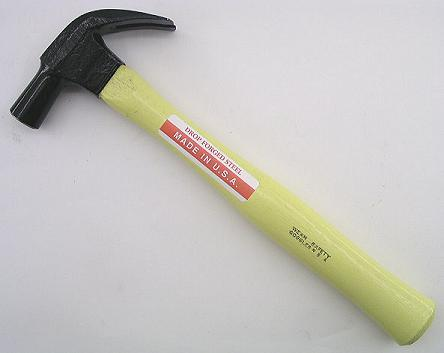hammer: (7, 5, 437, 347)
